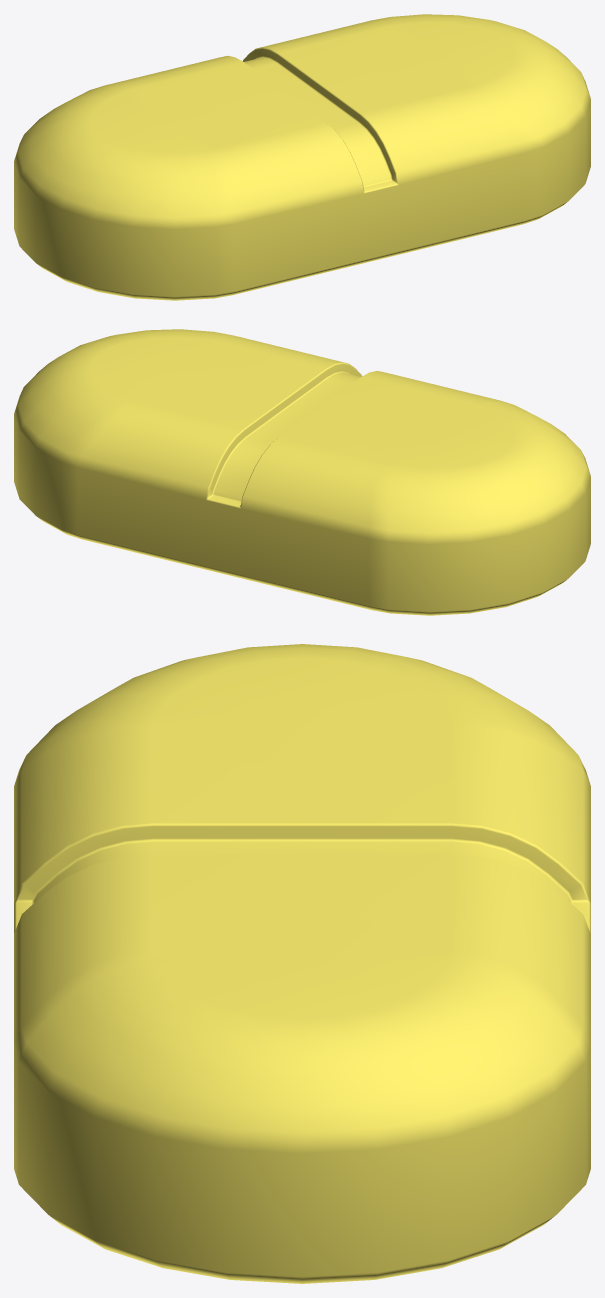
File: Public_3_Pill_4.glb
3 views of the same model, one above another, from view 1: azimuth 30°, elevation 25°; view 2: azimuth 150°, elevation 25°; view 3: azimuth 270°, elevation 25° (orthographic). The views are drawn at different scales.
Visible parts, largest first — view 1: Public_3_Pill_4; view 2: Public_3_Pill_4; view 3: Public_3_Pill_4.
Boxes of the visible parts, x1,y1,x2,y2 form: Public_3_Pill_4: (14, 14, 590, 300); Public_3_Pill_4: (14, 329, 590, 615); Public_3_Pill_4: (14, 644, 590, 1283).
Size of the model in its own units: 1.96 by 0.4113 by 1.01.
1 material, 1 textured.
